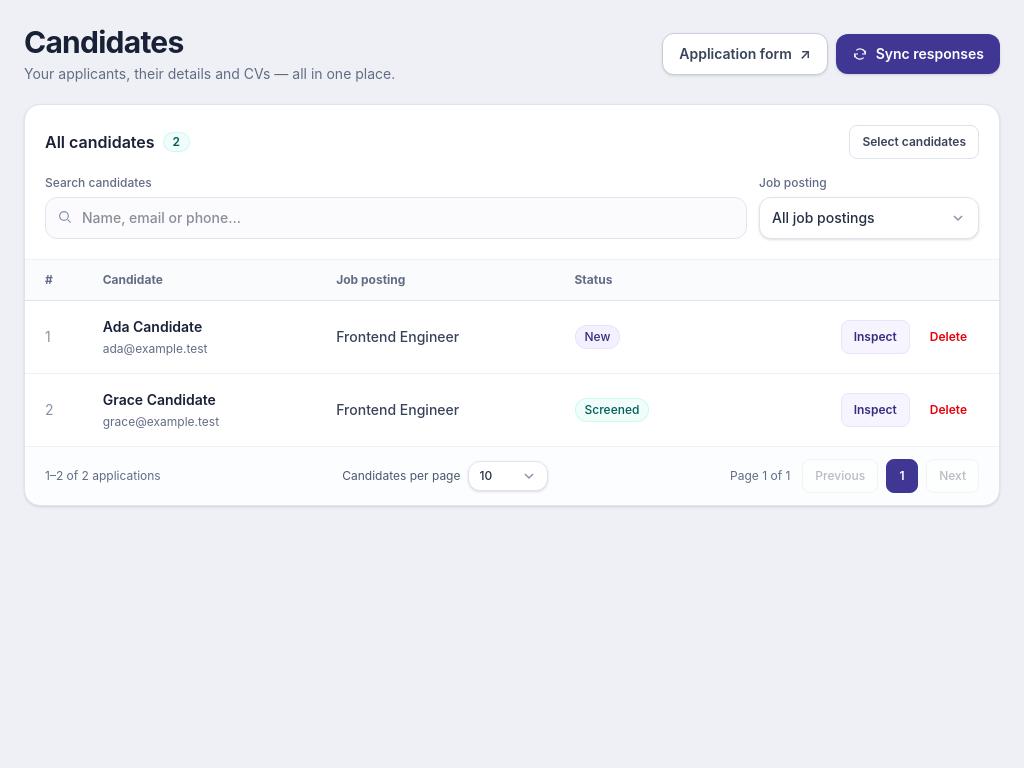
filters identical job titles by posting ID and combines that filter with search
The image size is (1024, 768).
Expected: the text "Ada Candidate" is shown, [103, 318, 202, 335]
Click the dropdown labelled "job posting" at (869, 218), box [759, 197, 979, 239]
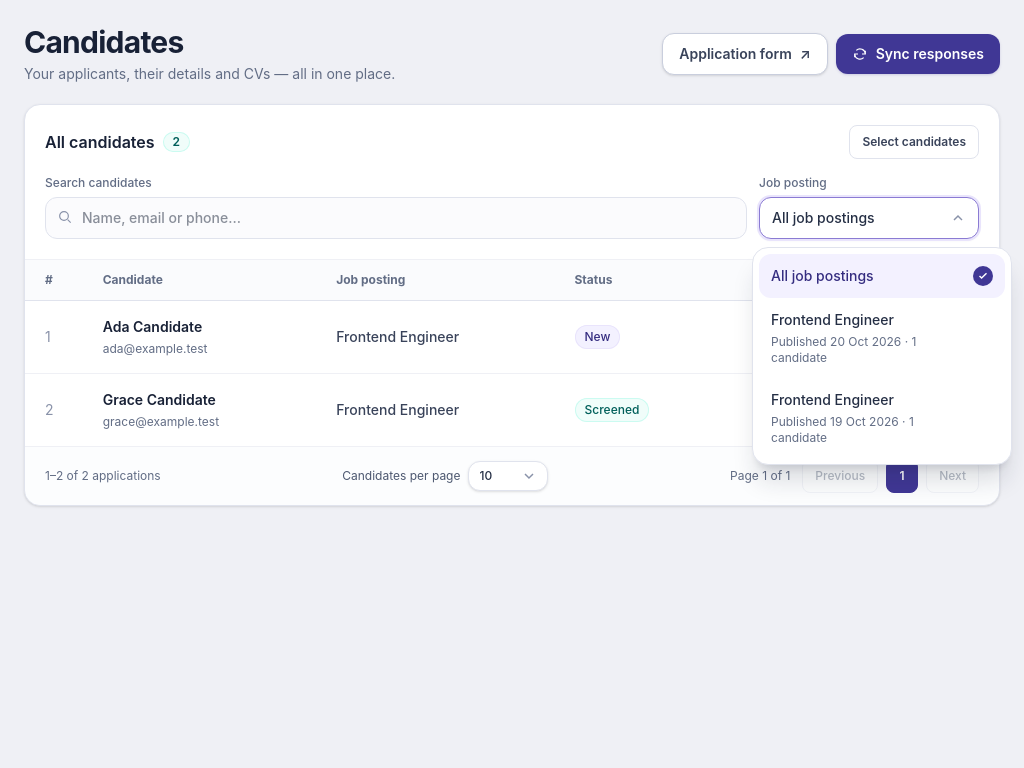
Click the option "Frontend Engineer Published 19 Oct 2026 · 1 candidate" at (882, 418), box [759, 378, 1005, 458]
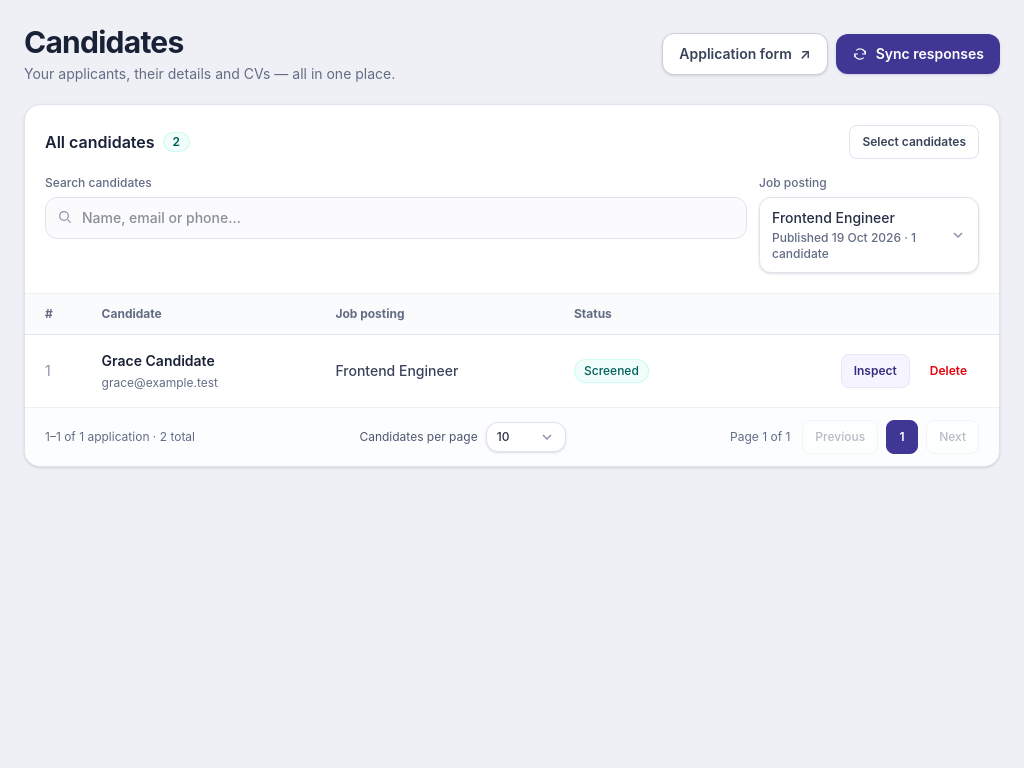
Expected: the text "Grace Candidate" is shown, [102, 352, 215, 369]
Expected: the text "Ada Candidate" is gone
Type "ada@example.test" into the search field labelled "Search candidates" at (396, 218), box [45, 197, 747, 239]
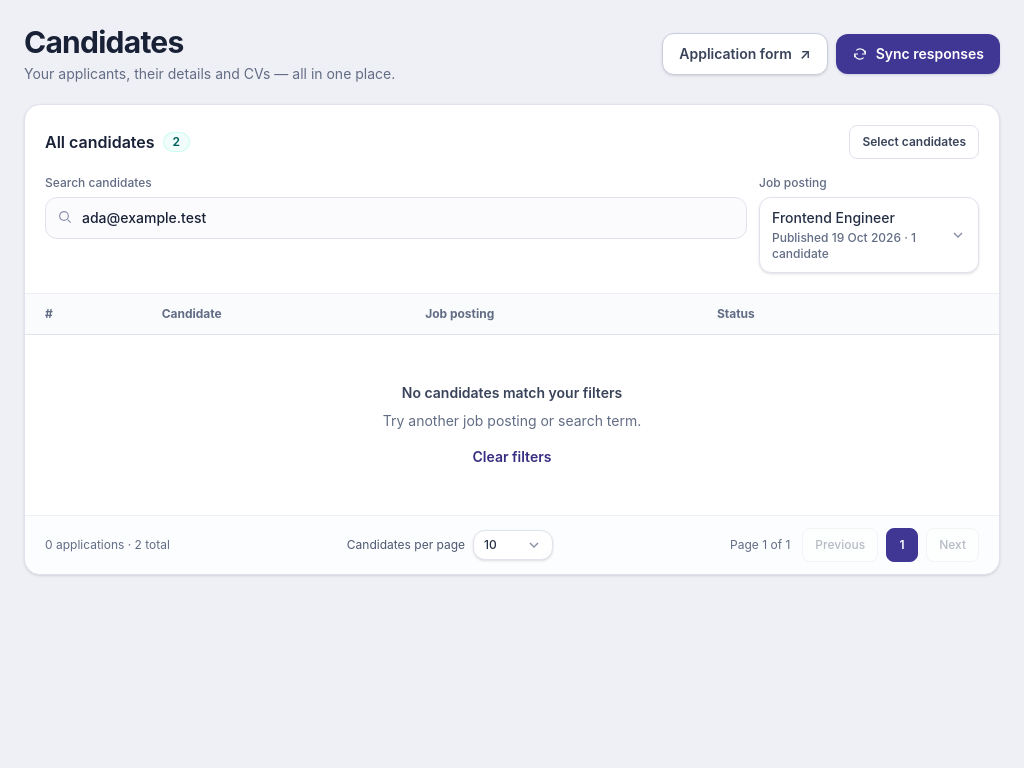
Expected: the text "No candidates match your filters" is shown, [402, 384, 622, 401]
Click the button "Clear filters" at (512, 457), box [472, 447, 551, 467]
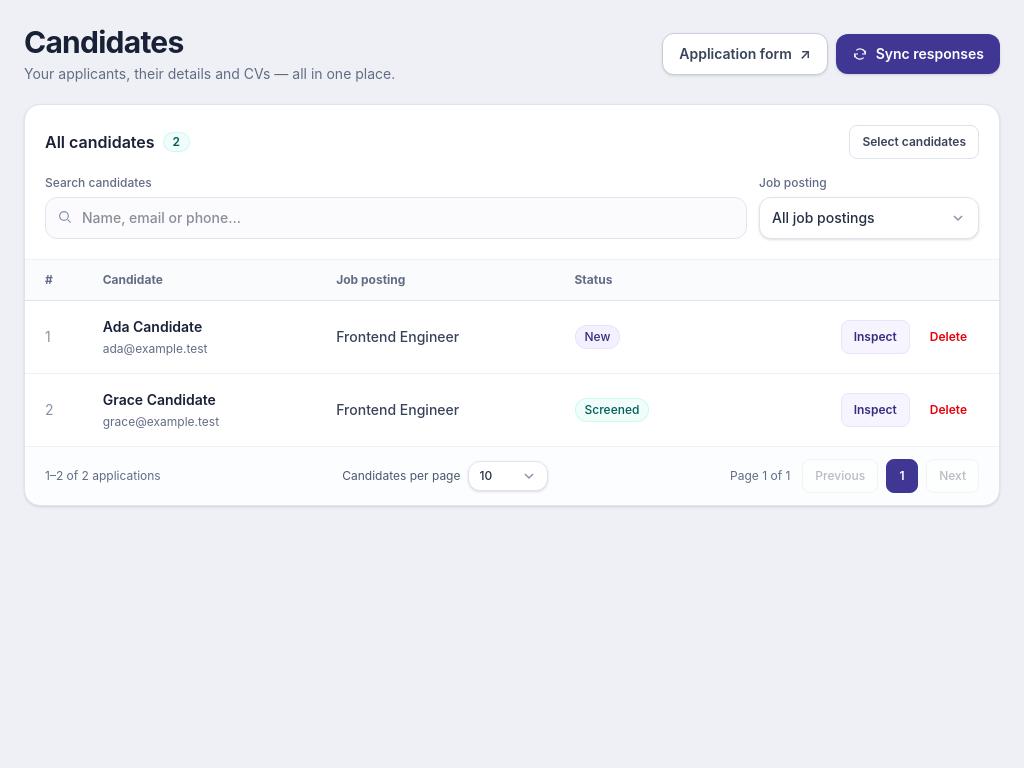
Expected: the text "Ada Candidate" is shown, [103, 318, 202, 335]
